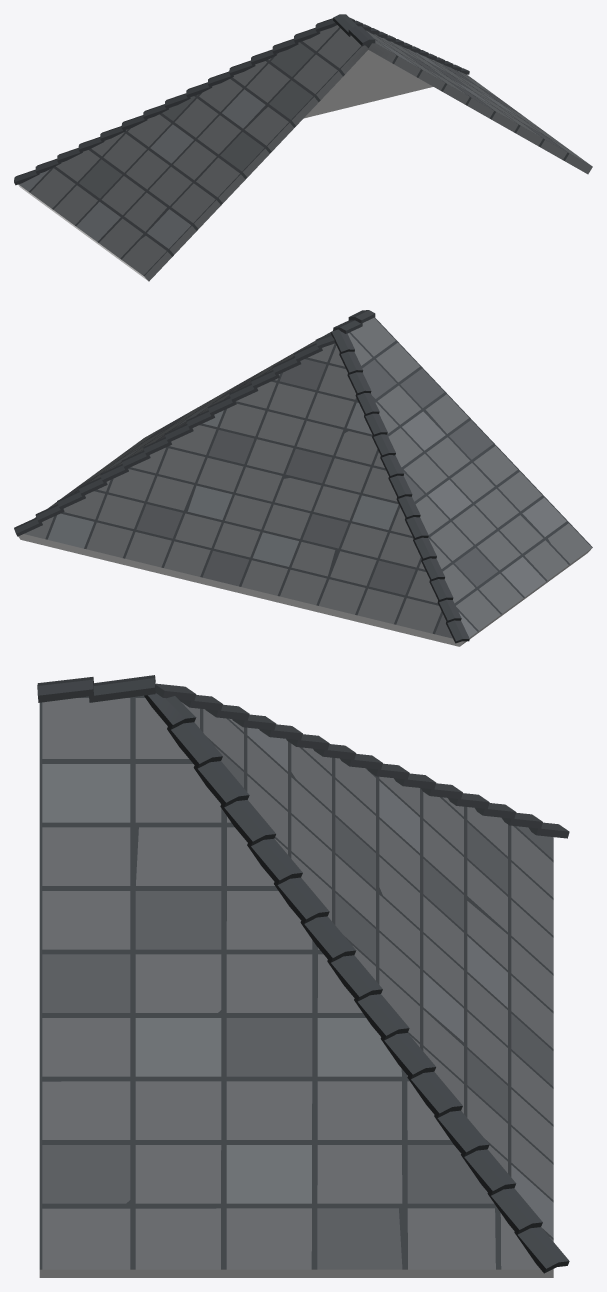
File: Roof1_C8_02.fbx
3 views of the same model, one above another, from view 1: azimuth 30°, elevation 25°; view 2: azimuth 150°, elevation 25°; view 3: azimuth 270°, elevation 25° (orthographic). The views are drawn at different scales.
Visible parts, largest first — view 1: Roof1_C8_02; view 2: Roof1_C8_02; view 3: Roof1_C8_02.
Part boxes in pixels (x1,y1,x2,y2): Roof1_C8_02: (14, 14, 592, 281); Roof1_C8_02: (14, 310, 592, 646); Roof1_C8_02: (37, 675, 569, 1277).
Size of the model in its own units: 5.73 by 2.32 by 2.9.
